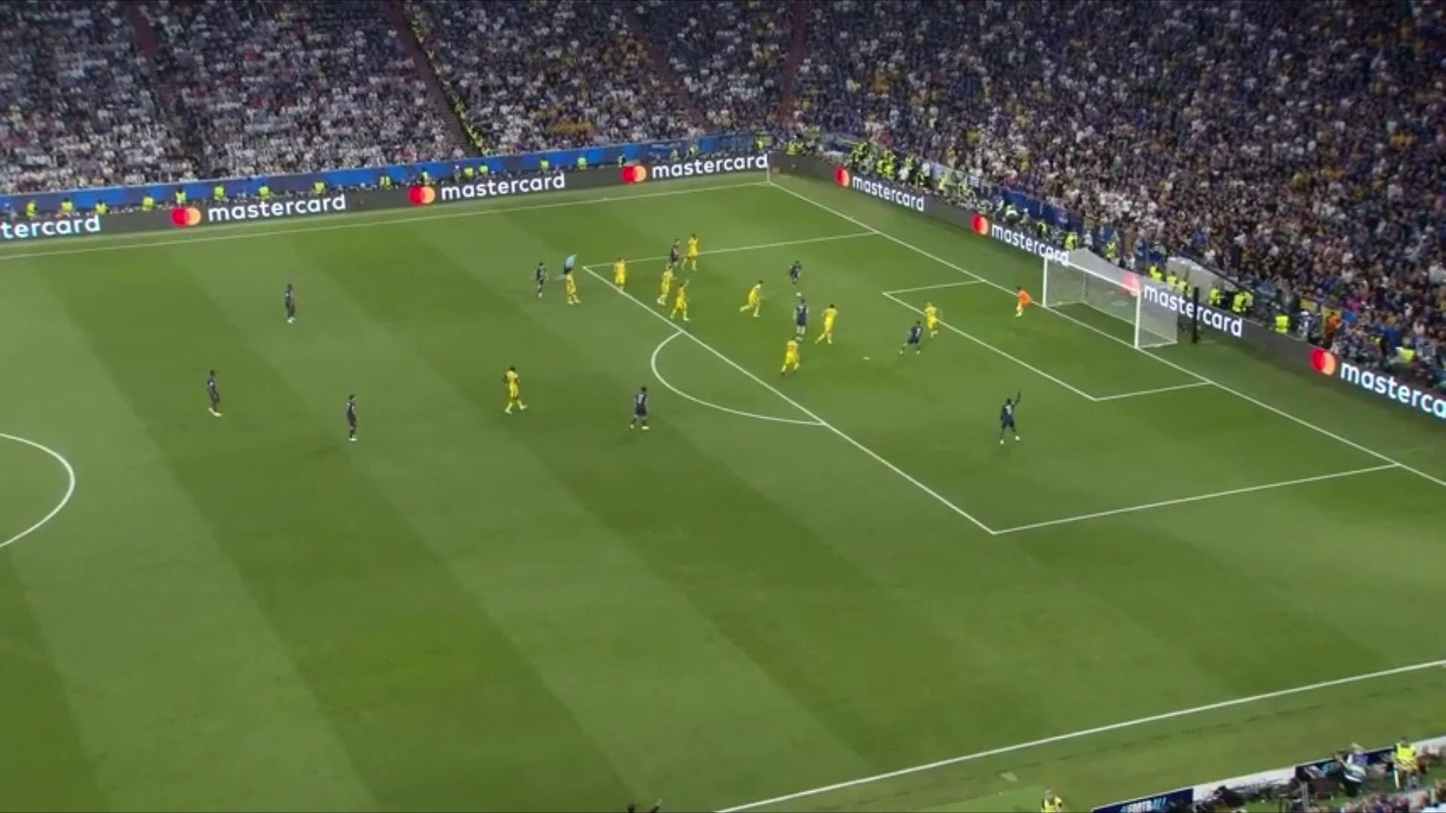ball: (793, 287, 805, 302)
player_A: (994, 389, 1024, 448), (626, 383, 653, 434), (203, 366, 226, 422), (898, 318, 926, 364), (524, 257, 551, 303), (343, 389, 364, 448), (280, 280, 300, 326), (794, 298, 813, 342), (786, 256, 808, 287), (666, 231, 683, 271)
player_B: (500, 362, 531, 417), (736, 268, 766, 323), (559, 263, 585, 312), (919, 295, 946, 339), (780, 331, 801, 385), (817, 299, 837, 349), (611, 251, 631, 300), (684, 225, 701, 273), (655, 264, 672, 310), (672, 279, 689, 324)
player_B_goal_keeper: (1008, 276, 1035, 324)
referee: (559, 241, 581, 283)
